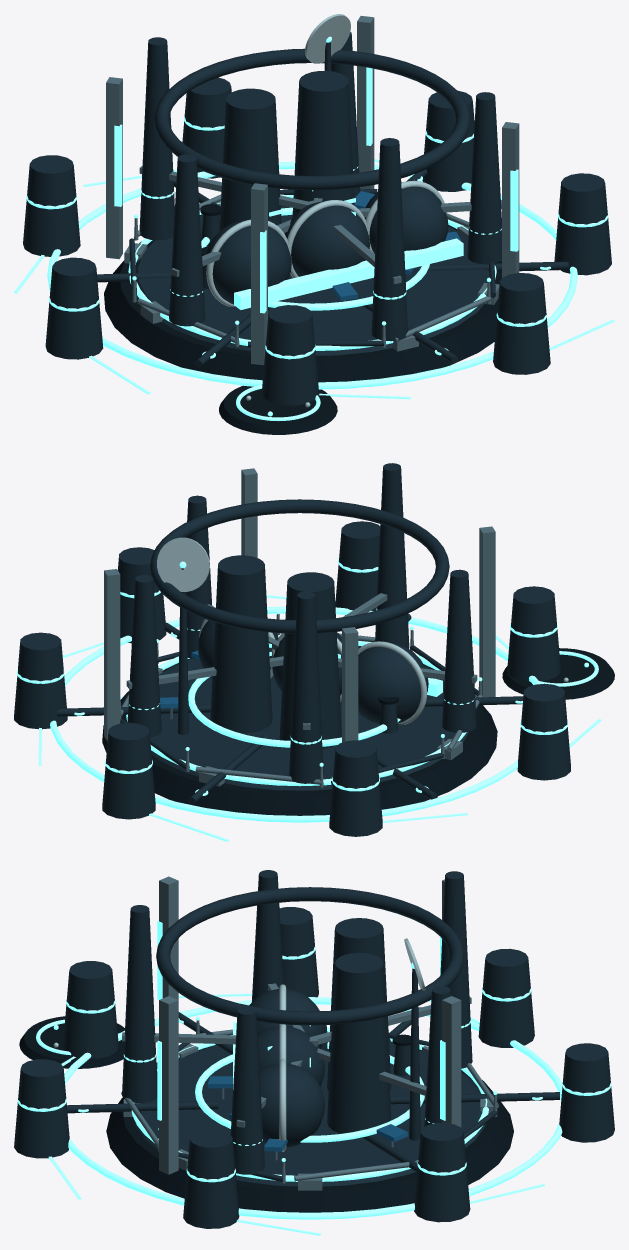
File: deuteriumSynthesizer-stage4.glb
3 renders of one model, top to bottom at view 1: azimuth 30°, elevation 25°; view 2: azimuth 150°, elevation 25°; view 3: azimuth 270°, elevation 25°, orthographic. The views are drawn at different scales.
Parts seen in each view (by area): view 1: cryogenic-tower (×2), upper-deck, armored-foundation, pressure-vessel (×3), industrial-sky-ring, processing-tower-1, processing-tower-3, refinery-annex-1, refinery-annex-3, refinery-annex-4, refinery-annex-2, processing-tower-0 (+25 smaller); view 2: cryogenic-tower (×2), upper-deck, armored-foundation, industrial-sky-ring, processing-tower-3, pressure-vessel (×2), refinery-annex-3, refinery-annex-4, refinery-annex-5, district-grid-3, processing-tower-2, refinery-annex-6 (+21 smaller); view 3: cryogenic-tower (×2), upper-deck, armored-foundation, industrial-sky-ring, pressure-vessel (×3), processing-tower-1, district-grid-3, refinery-annex-0, refinery-annex-6, refinery-annex-1, refinery-annex-5, refinery-annex-4 (+21 smaller).
Boxes of the visible parts, x1=… form: cryogenic-tower (×2): x1=219, y1=70, x2=354, y2=230; upper-deck: x1=131, y1=205, x2=489, y2=355; armored-foundation: x1=104, y1=214, x2=501, y2=382; pressure-vessel (×3): x1=205, y1=182, x2=448, y2=304; industrial-sky-ring: x1=154, y1=48, x2=470, y2=190; processing-tower-1: x1=371, y1=138, x2=407, y2=341; processing-tower-3: x1=139, y1=37, x2=174, y2=240; refinery-annex-1: x1=493, y1=273, x2=550, y2=374; refinery-annex-3: x1=45, y1=257, x2=103, y2=359; refinery-annex-4: x1=23, y1=155, x2=80, y2=256; refinery-annex-2: x1=261, y1=305, x2=319, y2=405; processing-tower-0: x1=467, y1=92, x2=501, y2=264; cryogenic-tower (×2): x1=210, y1=555, x2=341, y2=749; upper-deck: x1=127, y1=646, x2=468, y2=790; armored-foundation: x1=102, y1=646, x2=497, y2=815; industrial-sky-ring: x1=150, y1=499, x2=449, y2=633; processing-tower-3: x1=289, y1=591, x2=323, y2=783; pressure-vessel (×2): x1=198, y1=620, x2=428, y2=723; refinery-annex-3: x1=517, y1=683, x2=570, y2=780; refinery-annex-4: x1=329, y1=740, x2=382, y2=836; refinery-annex-5: x1=102, y1=722, x2=155, y2=819; district-grid-3: x1=50, y1=606, x2=540, y2=822; processing-tower-2: x1=442, y1=569, x2=476, y2=732; refinery-annex-6: x1=14, y1=632, x2=67, y2=729; cryogenic-tower (×2): x1=327, y1=918, x2=391, y2=1134; upper-deck: x1=133, y1=1041, x2=485, y2=1186; armored-foundation: x1=106, y1=1041, x2=513, y2=1212; industrial-sky-ring: x1=156, y1=887, x2=464, y2=1025; pressure-vessel (×3): x1=249, y1=989, x2=324, y2=1147; processing-tower-1: x1=122, y1=905, x2=157, y2=1102; district-grid-3: x1=64, y1=997, x2=562, y2=1219; refinery-annex-0: x1=183, y1=1129, x2=239, y2=1228; refinery-annex-6: x1=414, y1=1123, x2=470, y2=1222; refinery-annex-1: x1=14, y1=1059, x2=69, y2=1158; refinery-annex-5: x1=559, y1=1043, x2=614, y2=1142; refinery-annex-4: x1=478, y1=948, x2=534, y2=1047.
Size of the model in its own units: 17.14 by 7.05 by 17.16.
